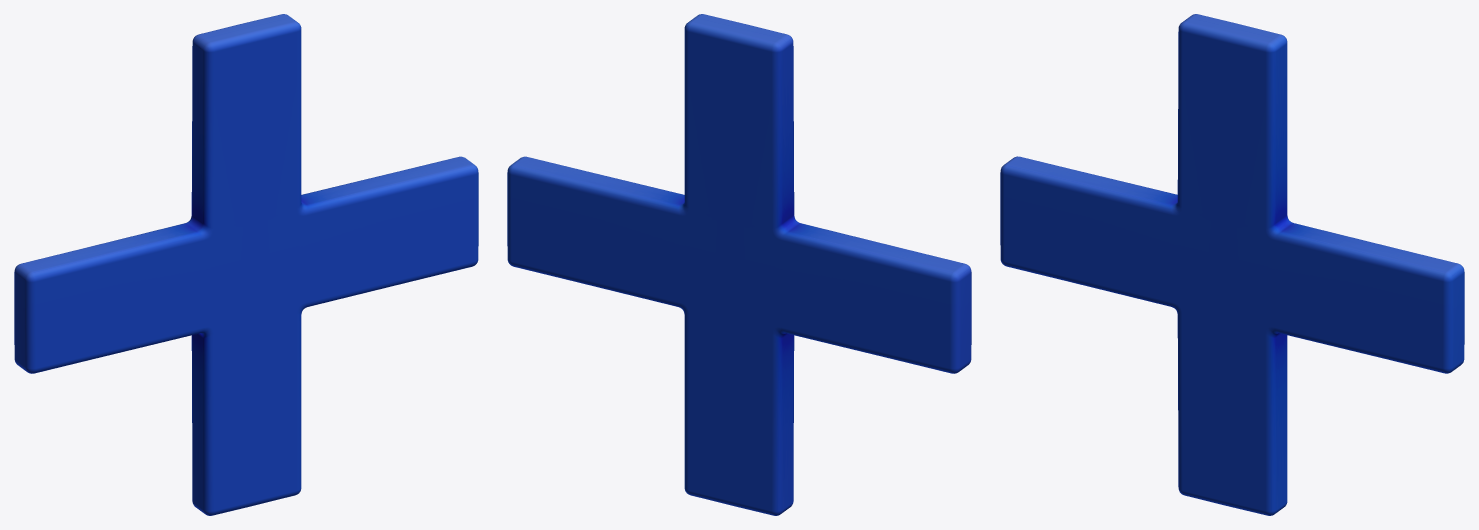
File: plus-sign.glb
3 views of the same model, side by side, from view 1: azimuth 30°, elevation 25°; view 2: azimuth 150°, elevation 25°; view 3: azimuth 330°, elevation 25° (orthographic).
Visible parts, largest first — view 1: plus_sign.1; view 2: plus_sign.1; view 3: plus_sign.1.
Boxes of the visible parts, <box> form: plus_sign.1: <box>14,14,478,515</box>; plus_sign.1: <box>507,14,971,515</box>; plus_sign.1: <box>1000,14,1464,515</box>.
Bounding box in the file's own units: 0.331 × 0.331 × 0.0223.
Materials: 1 (1 with a texture image).
